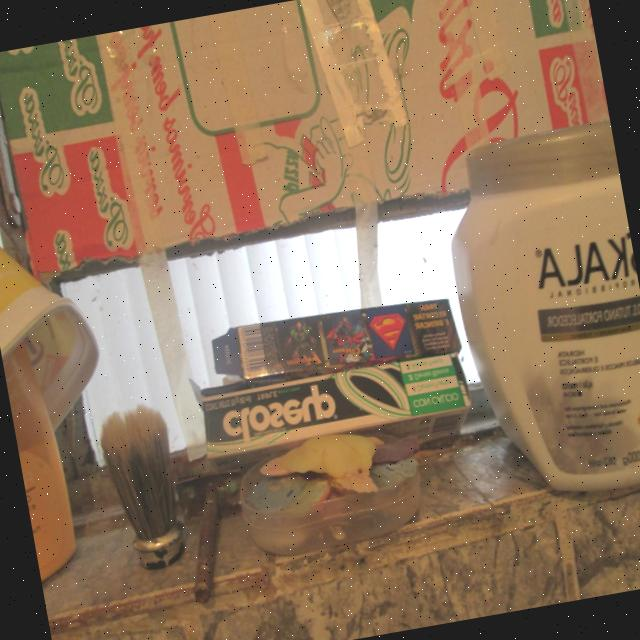Toothpaste: (166, 272, 478, 486)
